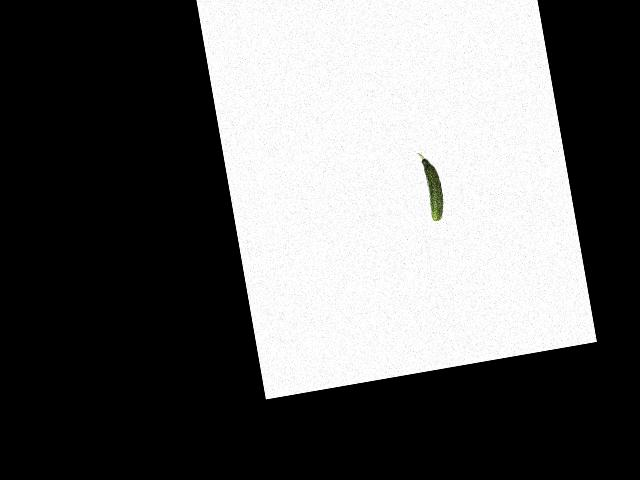cucumber: (417, 149, 446, 221)
